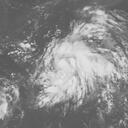cyclone: (36, 21, 119, 109)
